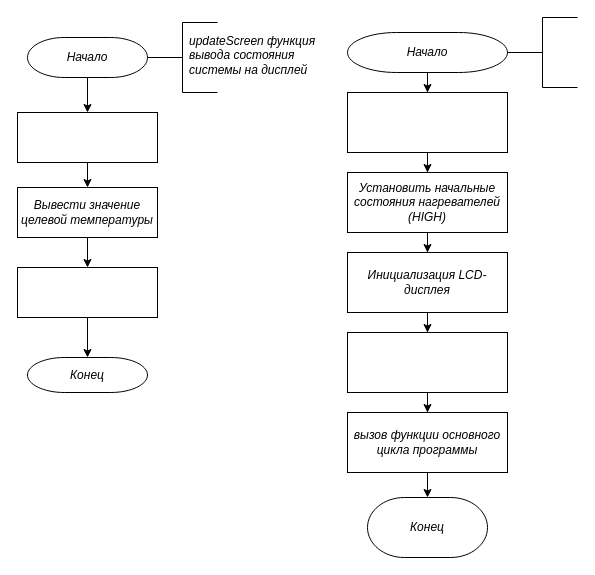
Image size: 595x575. Some labels were removed from this diagram. Each missing label, with the centre of its shape:
"Вывести значение текущей температуры" goes at point (87, 292).
"Вывод на дисплей приветственного сообщения на 3 секунды" goes at point (427, 362).
"Настройка интерфейсов и пинов для всех устройств" goes at point (427, 122).
"Очистить дисплей" goes at point (87, 137).
